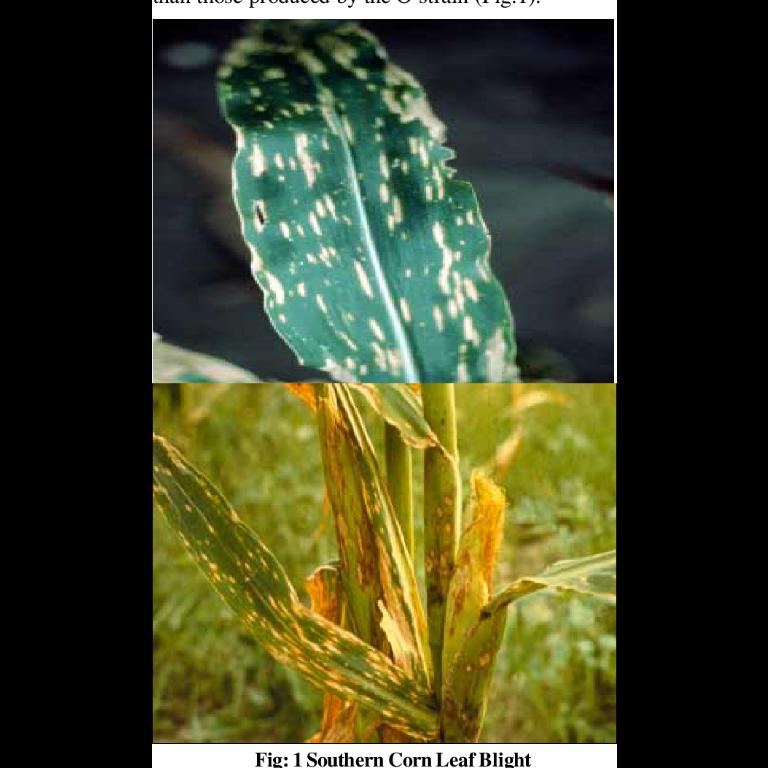blight: (268, 83, 392, 303)
